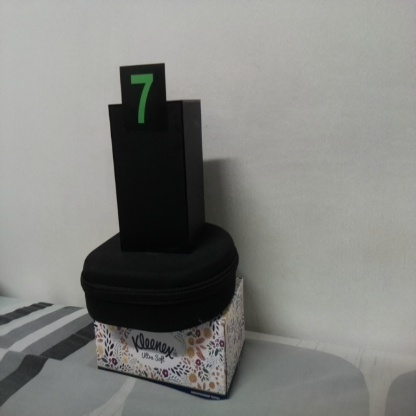id_7: (120, 65, 166, 137)
